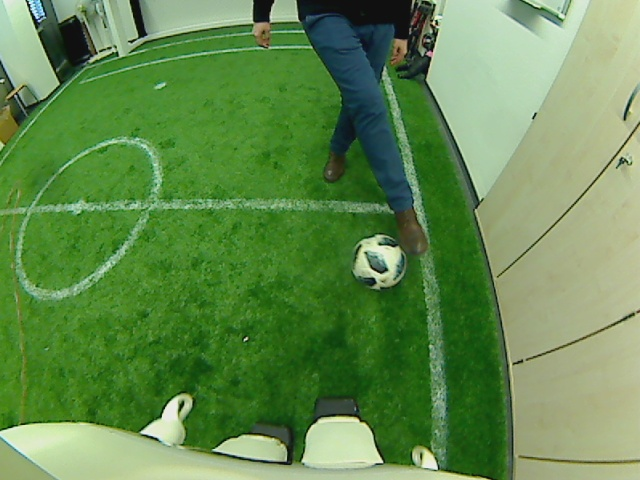ball: (350, 234, 407, 289)
